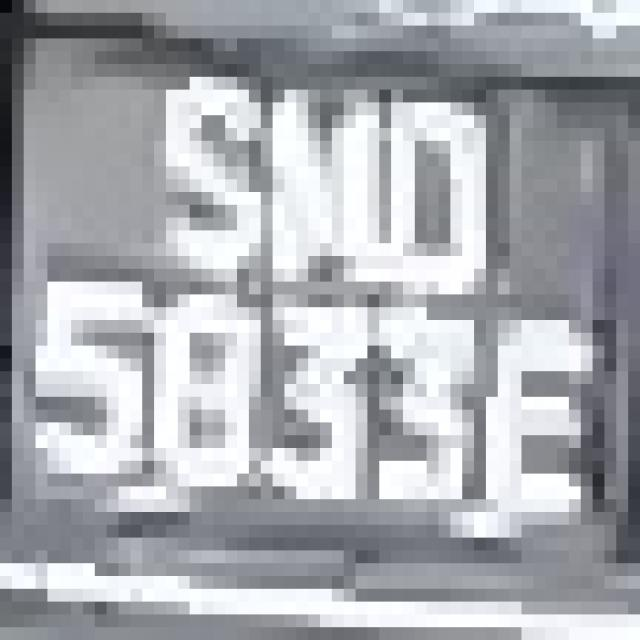3: (344, 320, 486, 538), (249, 256, 355, 538)
5: (24, 205, 142, 538)
8: (142, 294, 261, 525)
D: (343, 102, 510, 333)
E: (474, 282, 605, 550)
M: (237, 64, 391, 333)
S: (142, 26, 261, 307)
